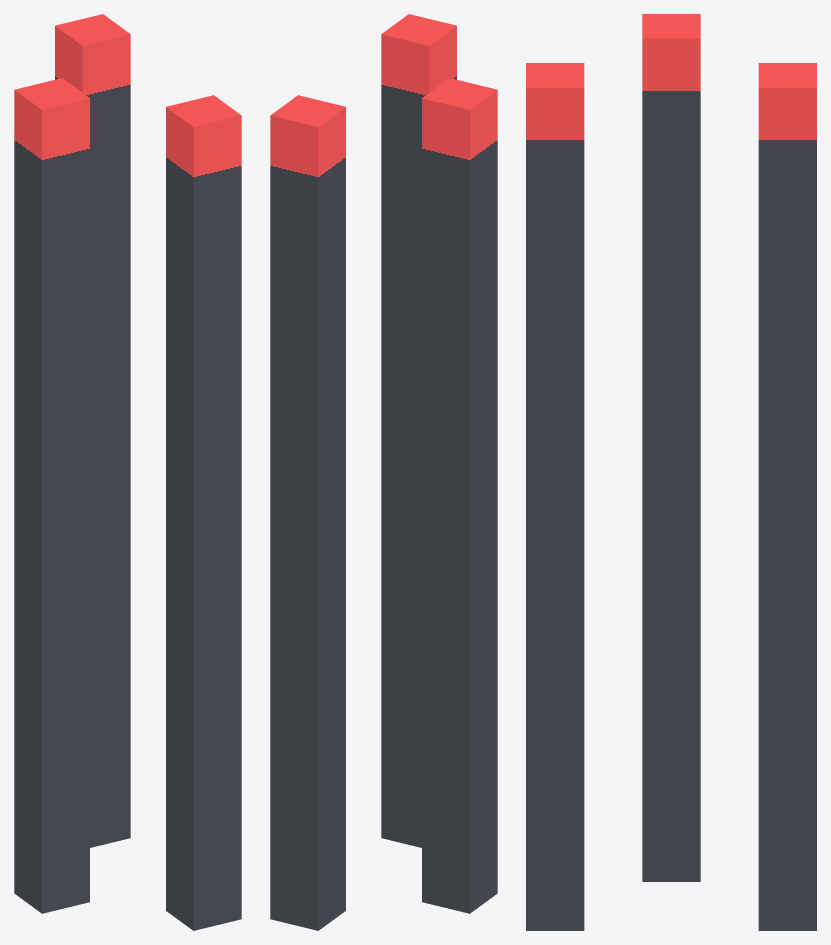
3 views of the same model, side by side, from view 1: azimuth 30°, elevation 25°; view 2: azimuth 150°, elevation 25°; view 3: azimuth 270°, elevation 25° (orthographic). The views are drawn at different scales.
Visible parts, largest first — view 1: Object; view 2: Object; view 3: Object.
Part boxes in pixels (box(x1,y1,x2,y2)): Object: box(14, 14, 241, 930); Object: box(270, 14, 497, 930); Object: box(526, 14, 816, 930).
Size of the model in its own units: 3 by 16 by 5.
Materials: 1 (1 with a texture image).
